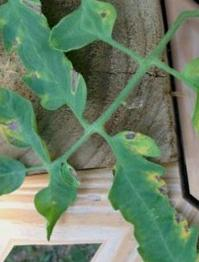Tomato Early blight leaf: (84, 116, 187, 228), (9, 155, 105, 250), (13, 38, 102, 136), (0, 69, 58, 171), (165, 54, 199, 177)
Tomato leaf: (0, 143, 35, 208)
